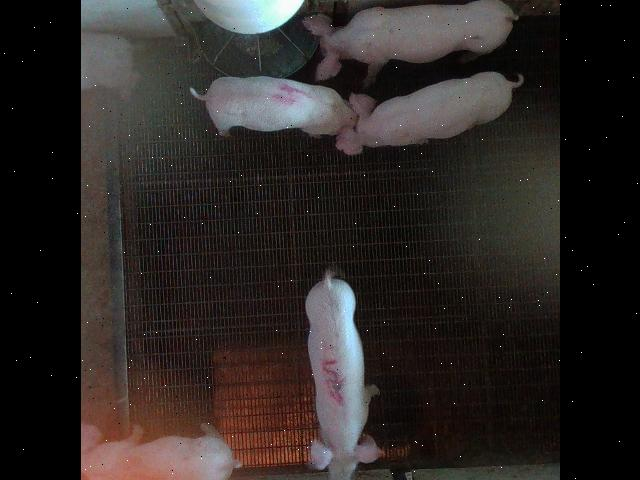pig-1: (81, 425, 240, 480)
pig-3: (304, 272, 380, 480)
pig-4: (189, 76, 375, 155)
